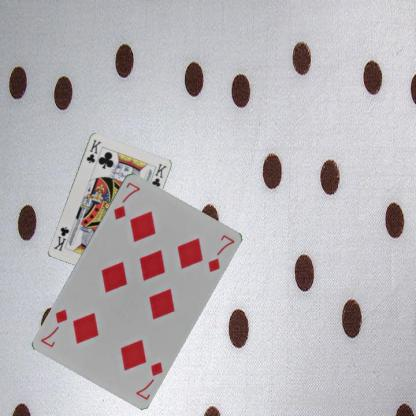7d: (133, 358, 164, 401), (111, 179, 141, 221)
Kc: (84, 137, 103, 164)
